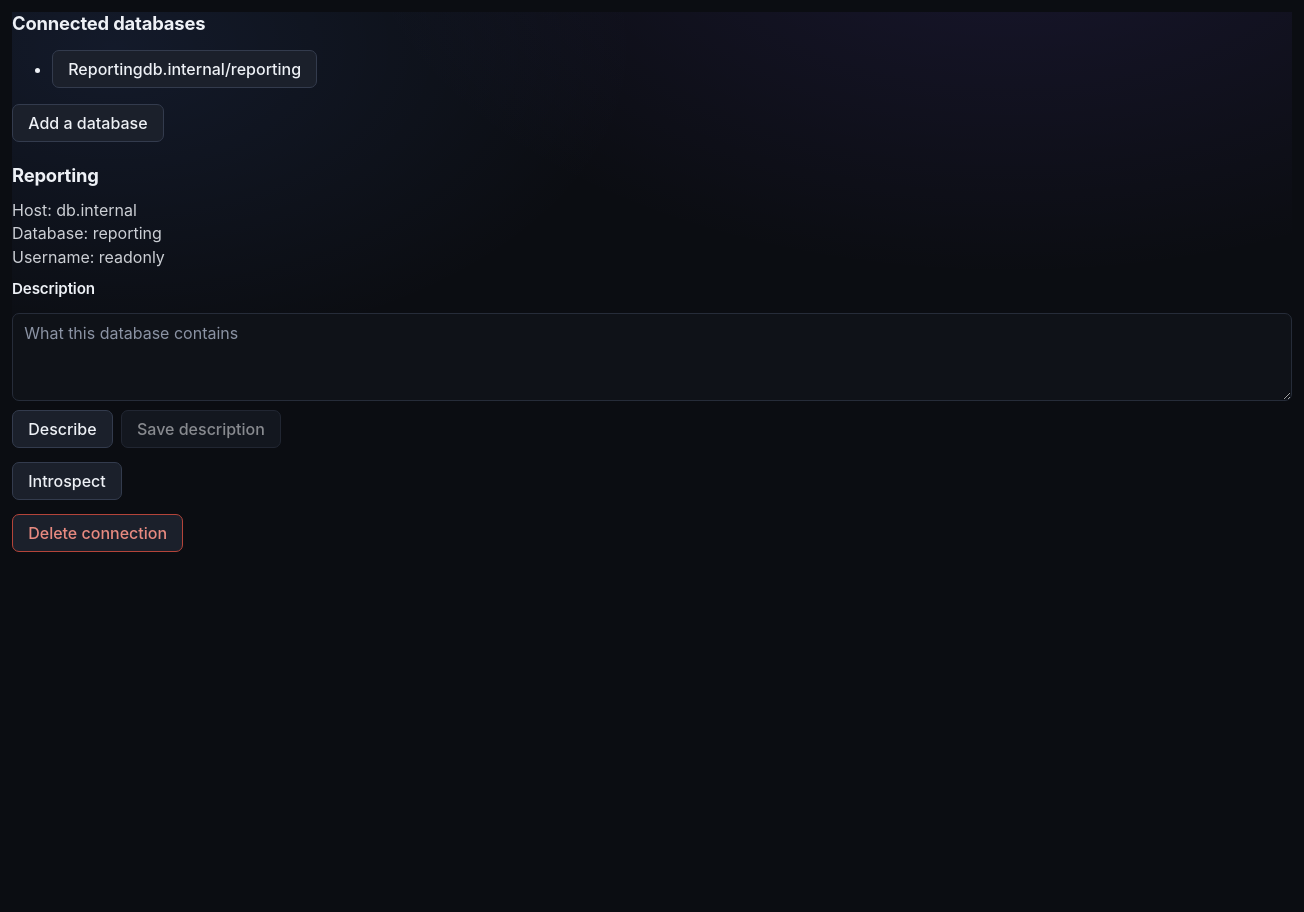
Test: DatabasePanel › collapses every table after introspecting, allow-listed ones included
The width and height of the screenshot is (1304, 912).
Click the button "Introspect" at (67, 481), box left=12, top=462, right=122, bottom=500
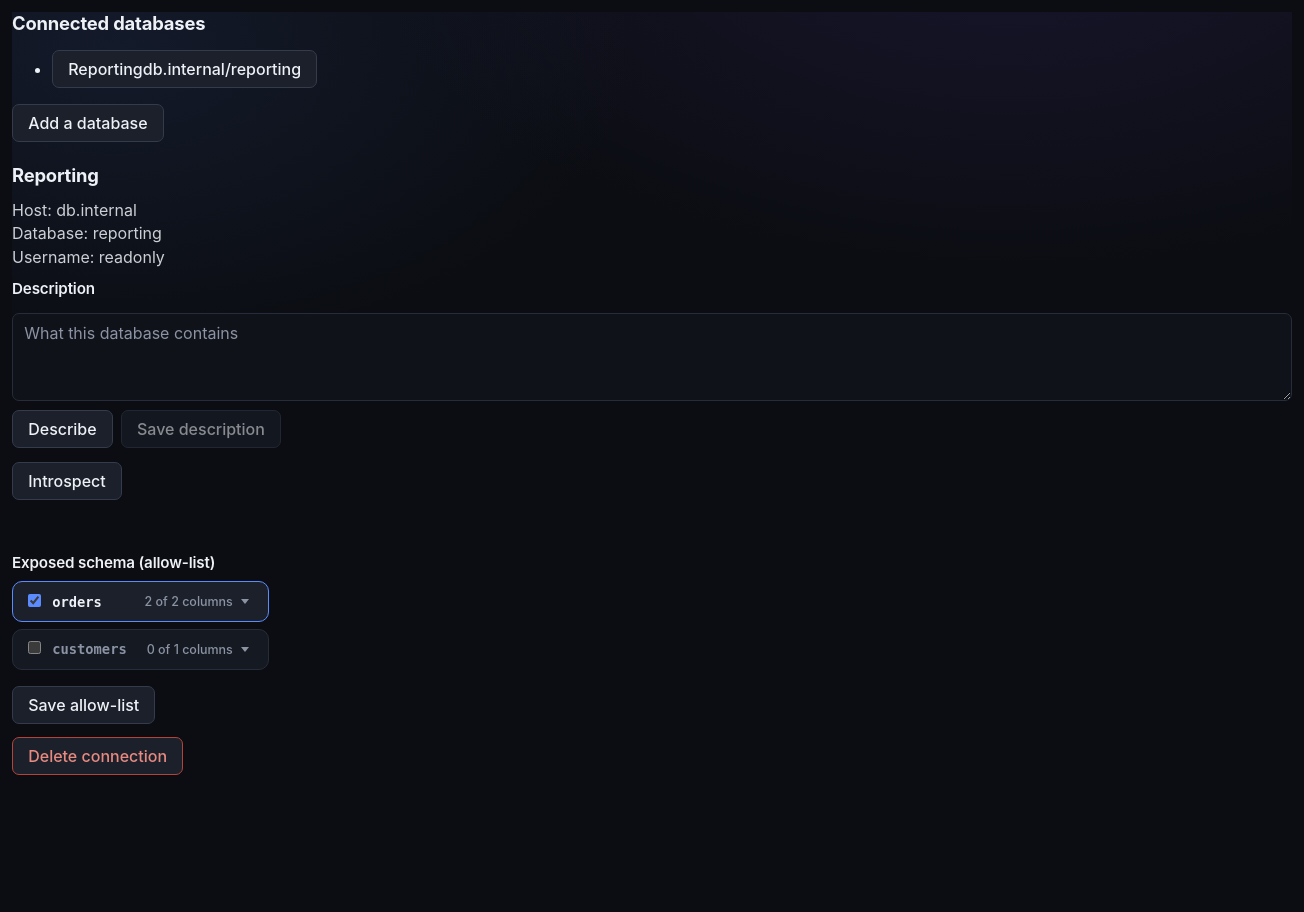
expect the text "orders" is shown: met, box left=52, top=594, right=102, bottom=610
expect the checkbox named "Include table orders" is checked: met, box left=28, top=594, right=41, bottom=607
// ...but including a table reveals its columns, so it can be curated.
Click the checkbox named "Include table customers" at (35, 648), box left=28, top=641, right=41, bottom=654
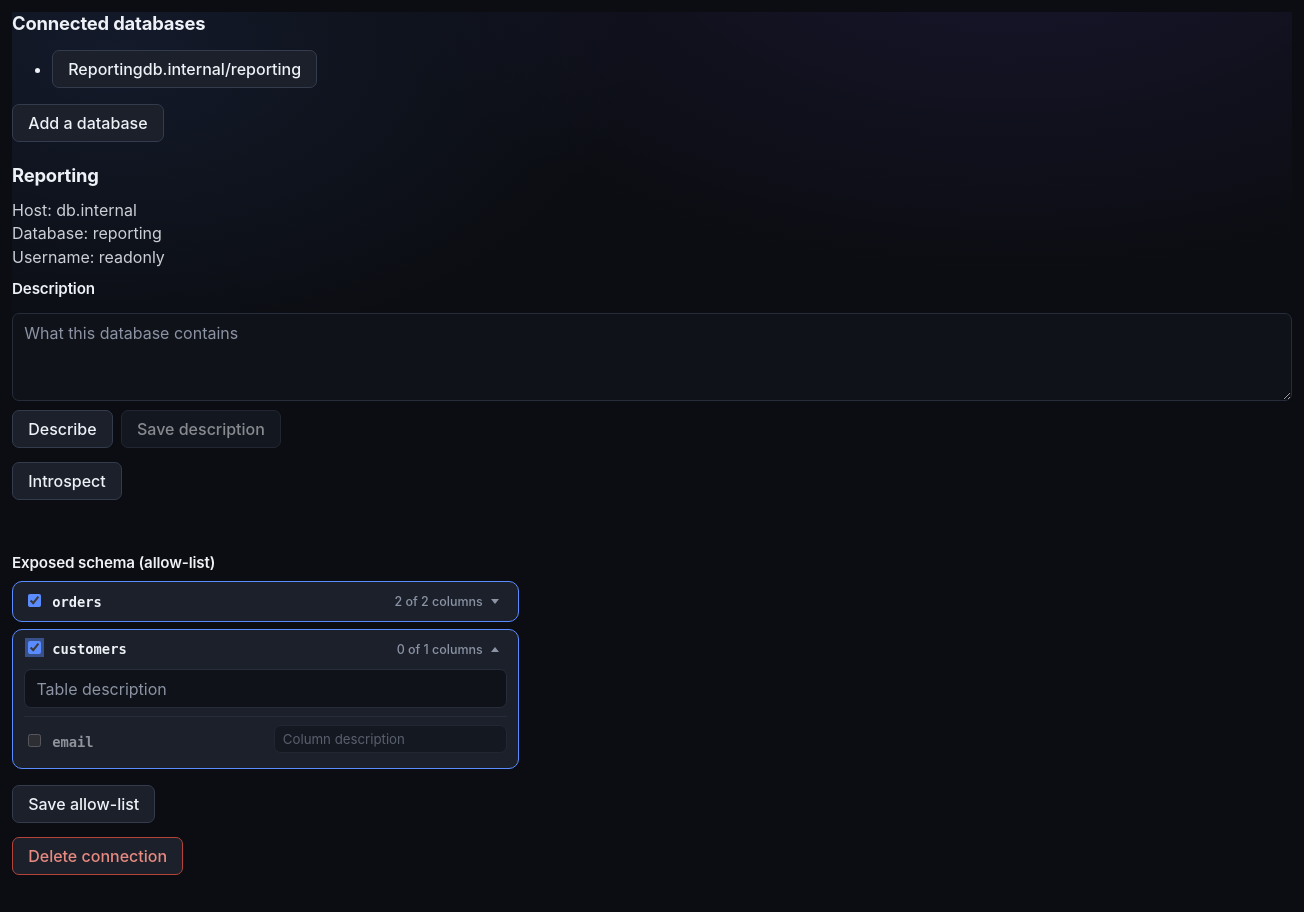
expect the checkbox named "Include column email" is shown: met, box left=28, top=734, right=41, bottom=747
